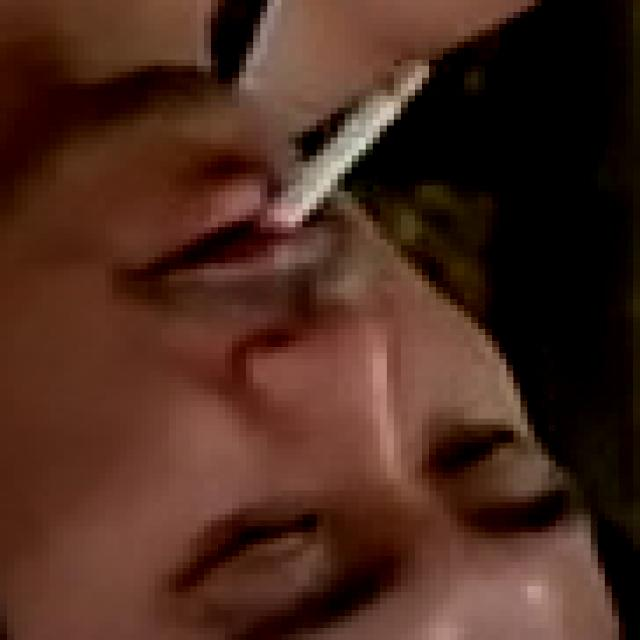cigarette: (246, 59, 464, 240)
